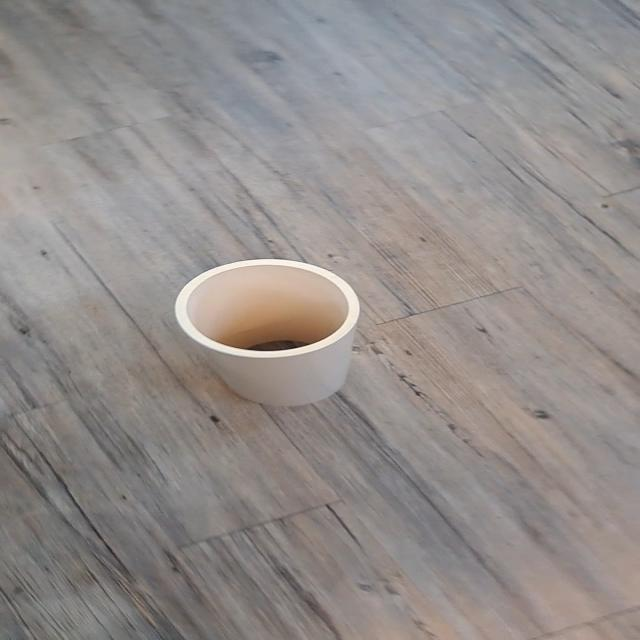CORAL: (143, 234, 400, 424)
